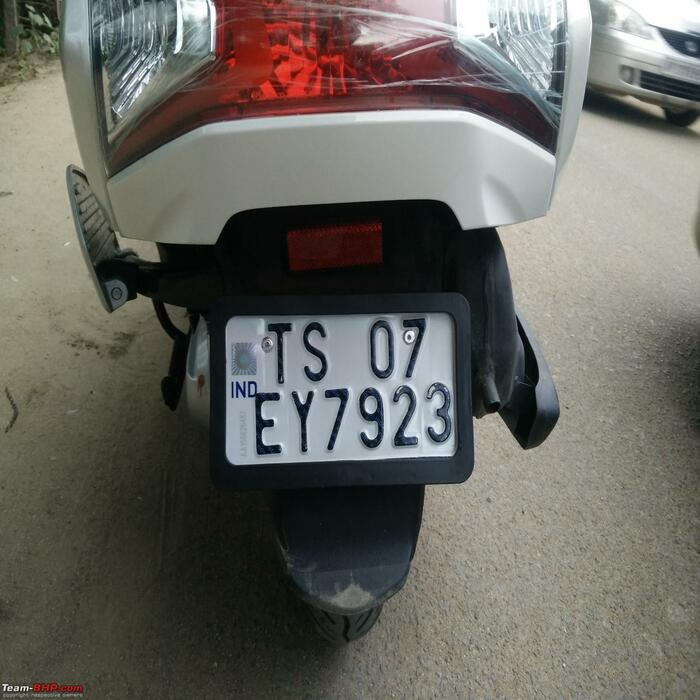n: (202, 292, 477, 485)
